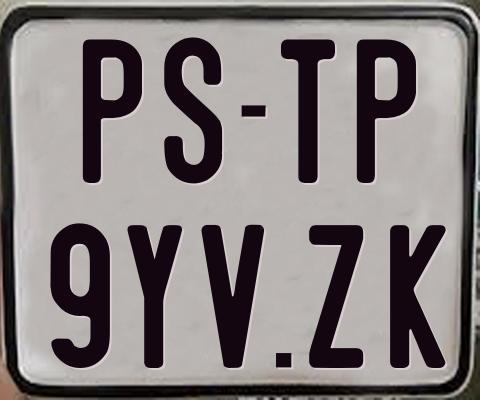9: (50, 221, 113, 370)
K: (387, 225, 445, 371)
P: (83, 38, 148, 183), (355, 37, 414, 187)
S: (163, 34, 224, 181)
T: (281, 37, 337, 182)
V: (199, 222, 267, 371)
Y: (125, 225, 182, 372)
Z: (308, 223, 362, 367)
